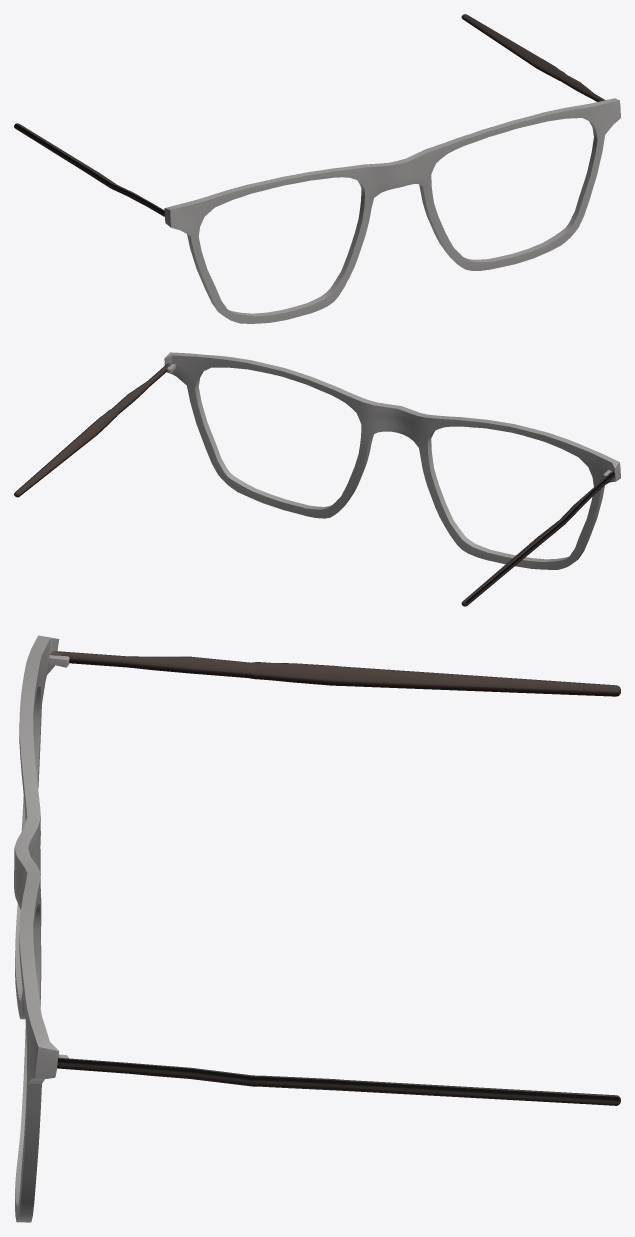
File: TryOn_Eyeglasses.glb
3 renders of one model, top to bottom at view 1: azimuth 30°, elevation 25°; view 2: azimuth 150°, elevation 25°; view 3: azimuth 270°, elevation 25°, orthographic. The views are drawn at different scales.
Visible parts, largest first — view 1: Circle, Cube; view 2: Circle, Cube; view 3: Cube, Circle.
Boxes of the visible parts, x1=… form: Circle: x1=164, y1=98, x2=620, y2=323; Cube: x1=14, y1=14, x2=605, y2=216; Circle: x1=164, y1=352, x2=620, y2=569; Cube: x1=14, y1=363, x2=614, y2=606; Cube: x1=50, y1=651, x2=620, y2=1105; Circle: x1=14, y1=635, x2=69, y2=1222.
Bounding box in the file's own units: 15.18 × 4.44 × 9.3.
2 materials, 2 textured.
